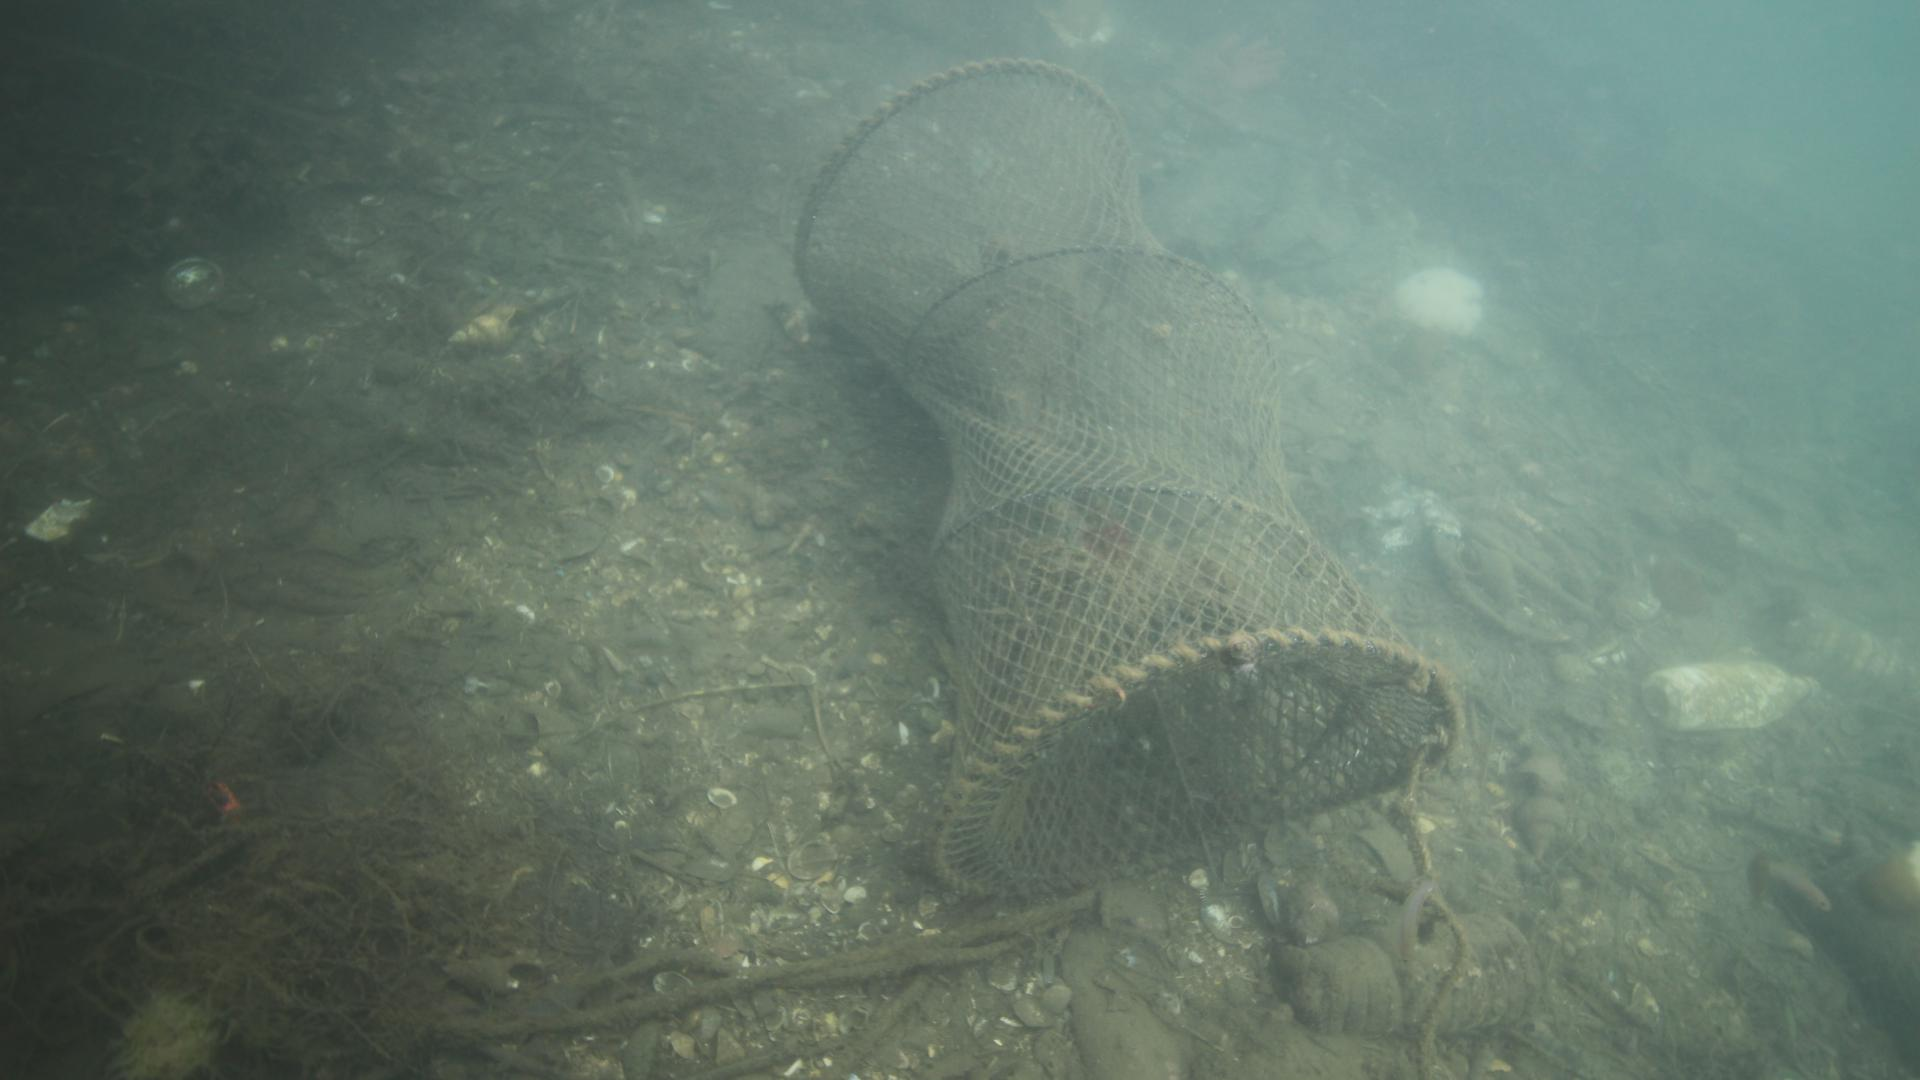bundle of ropes: (506, 898, 1091, 1080)
rope: (1393, 781, 1462, 1080)
spring fish trap: (793, 55, 1465, 899)
